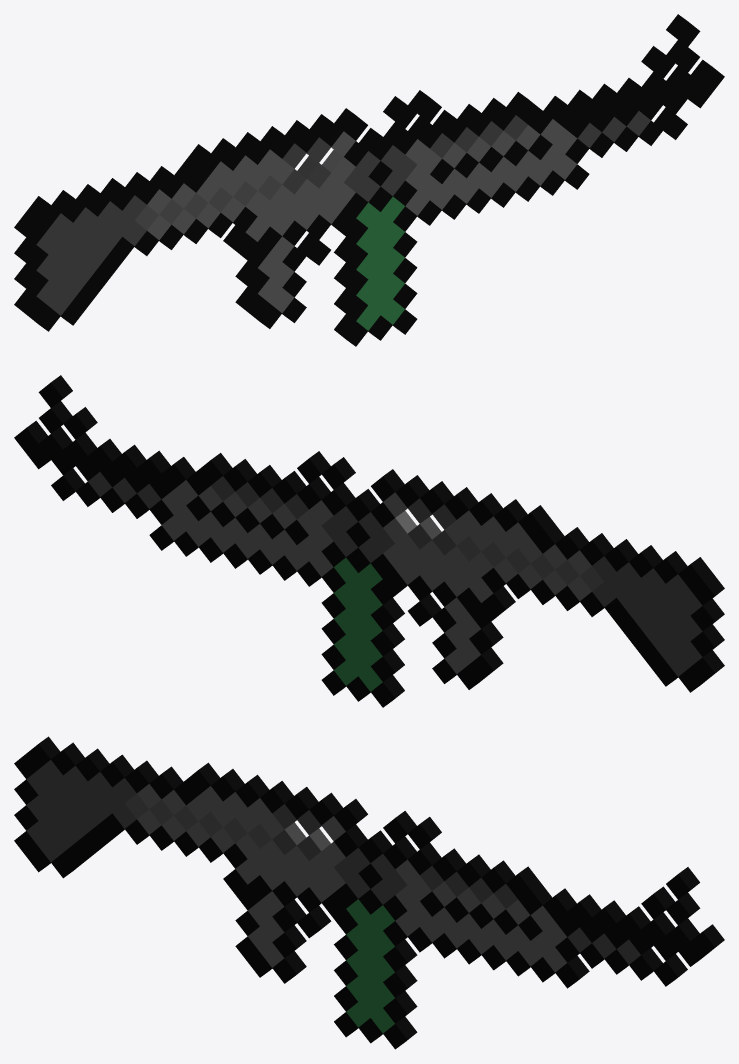
3 renders of one model, top to bottom at view 1: azimuth 30°, elevation 25°; view 2: azimuth 150°, elevation 25°; view 3: azimuth 330°, elevation 25°, orthographic.
Visible parts, largest first — view 1: Untitled; view 2: Untitled; view 3: Untitled.
Part boxes in pixels (box(x1,y1,x2,y2)): Untitled: box(14, 14, 724, 346); Untitled: box(14, 375, 724, 707); Untitled: box(14, 736, 724, 1049).
Size of the model in its own units: 18.14 by 6.05 by 0.45.
Materials: 1 (1 with a texture image).
